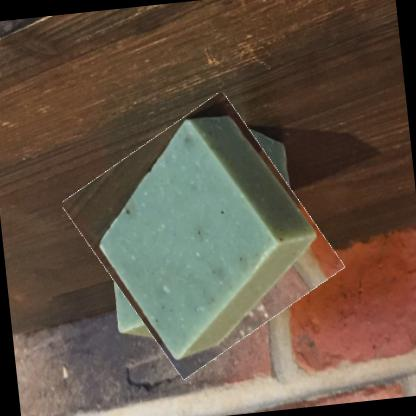soap: (72, 99, 333, 371)
